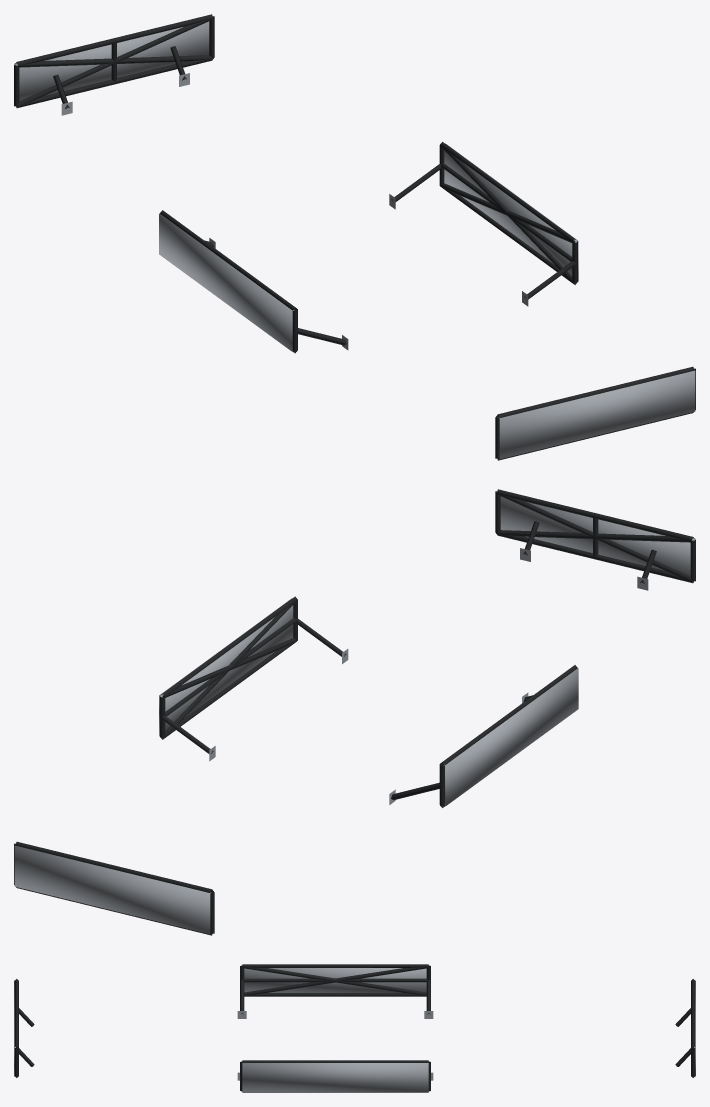
Rendered from brakhaus_coletor_protecao.glb.
3 renders of one model, top to bottom at view 1: azimuth 30°, elevation 25°; view 2: azimuth 150°, elevation 25°; view 3: azimuth 270°, elevation 25°, orthographic. The views are drawn at different scales.
Parts seen in each view (by area): view 1: Protection_front_Level3_Details, Protection_left_Level3_Details, Protection_rear_Level3_Details, Protection_rear_Level1_Details, Protection_right_Level3_Details, Protection_right_Level1_Details, Protection_rear_Level2_Details, Protection_right_Level2_Details, Protection_front_Level1_Details, Protection_left_Level1_Details; view 2: Protection_rear_Level3_Details, Protection_left_Level3_Details, Protection_front_Level3_Details, Protection_front_Level1_Details, Protection_right_Level3_Details, Protection_right_Level1_Details, Protection_front_Level2_Details, Protection_right_Level2_Details, Protection_rear_Level1_Details, Protection_left_Level1_Details; view 3: Protection_right_Level3_Details, Protection_left_Level3_Details, Protection_left_Level2_Details, Protection_left_Level1_Details, Protection_right_Level1_Details, Protection_rear_Level1_Details, Protection_front_Level1_Details.
Boxes of the visible parts, x1,y1,x2,y2 form: Protection_front_Level3_Details: (498, 370, 695, 459); Protection_left_Level3_Details: (159, 213, 294, 351); Protection_rear_Level3_Details: (14, 21, 209, 101); Protection_rear_Level1_Details: (14, 14, 214, 115); Protection_right_Level3_Details: (444, 143, 578, 281); Protection_right_Level1_Details: (389, 142, 577, 306); Protection_rear_Level2_Details: (15, 18, 212, 107); Protection_right_Level2_Details: (440, 145, 575, 284); Protection_front_Level1_Details: (495, 366, 695, 460); Protection_left_Level1_Details: (160, 210, 348, 353); Protection_rear_Level3_Details: (14, 845, 211, 934); Protection_left_Level3_Details: (443, 668, 578, 806); Protection_front_Level3_Details: (500, 496, 695, 576); Protection_front_Level1_Details: (495, 489, 695, 590); Protection_right_Level3_Details: (159, 598, 293, 736); Protection_right_Level1_Details: (160, 596, 348, 761); Protection_front_Level2_Details: (497, 493, 694, 582); Protection_right_Level2_Details: (160, 601, 297, 739); Protection_rear_Level1_Details: (14, 841, 214, 935); Protection_left_Level1_Details: (389, 665, 577, 807); Protection_right_Level3_Details: (242, 1063, 428, 1091); Protection_left_Level3_Details: (244, 968, 426, 992); Protection_left_Level2_Details: (242, 965, 428, 995); Protection_left_Level1_Details: (237, 964, 433, 1018); Protection_right_Level1_Details: (237, 1060, 433, 1092); Protection_rear_Level1_Details: (675, 979, 695, 1076); Protection_front_Level1_Details: (14, 979, 34, 1076).
Size of the model in its own units: 2.87 by 0.512 by 8.41.
Materials: 1 (1 with a texture image).
